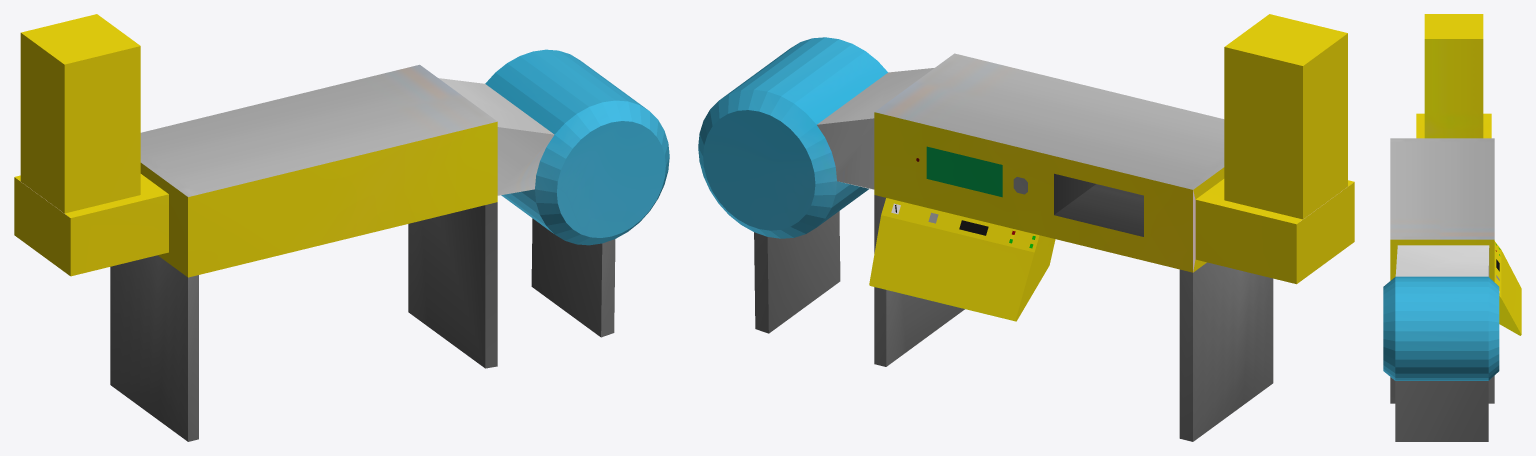
Rendered from Secador de tunel II.fbx.
3 views of the same model, side by side, from view 1: azimuth 30°, elevation 25°; view 2: azimuth 150°, elevation 25°; view 3: azimuth 270°, elevation 25° (orthographic). The views are drawn at different scales.
Parts seen in each view (by area): view 1: Cube; view 2: Cube; view 3: Cube.
Boxes of the visible parts, <box> form: Cube: <box>14,14,669,441</box>; Cube: <box>698,14,1354,441</box>; Cube: <box>1383,14,1521,441</box>.
Size of the model in its own units: 865 by 542 by 265.
